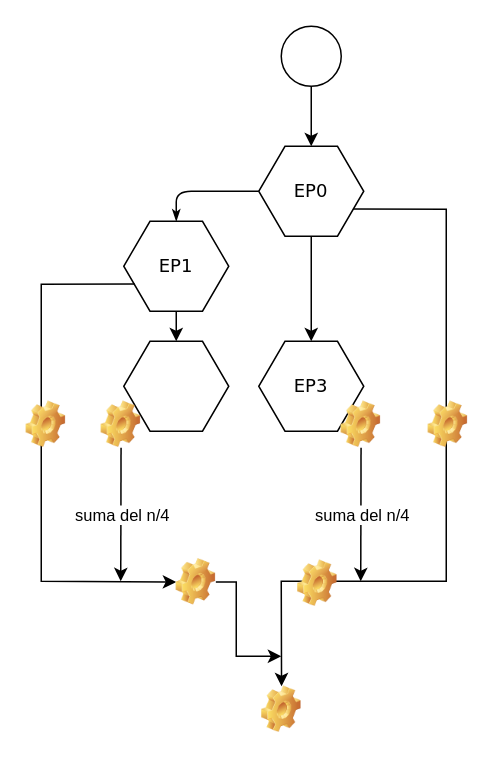
Some shapes in this 494 by 759 pixel diagram are drawn without their labels. Here are the shapes that lost their labels. From the top down, the centre of each, then its label:
At [310,55]: "Input".
At [175,385]: "EP2".
